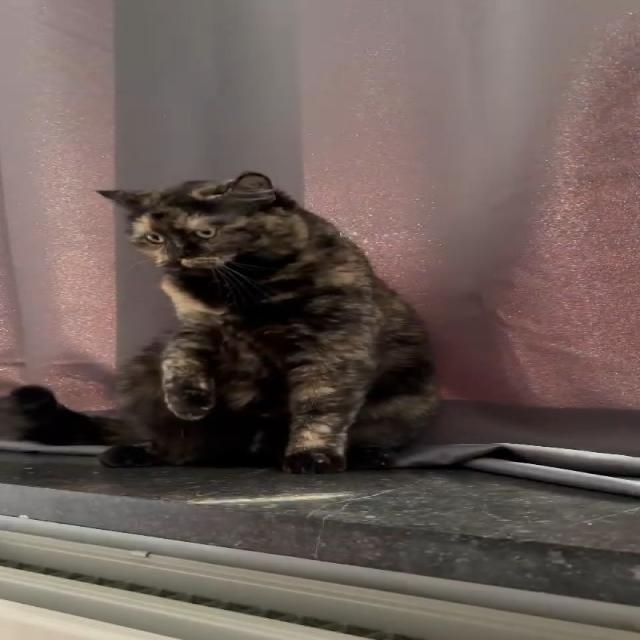authorized: (92, 170, 443, 475)
